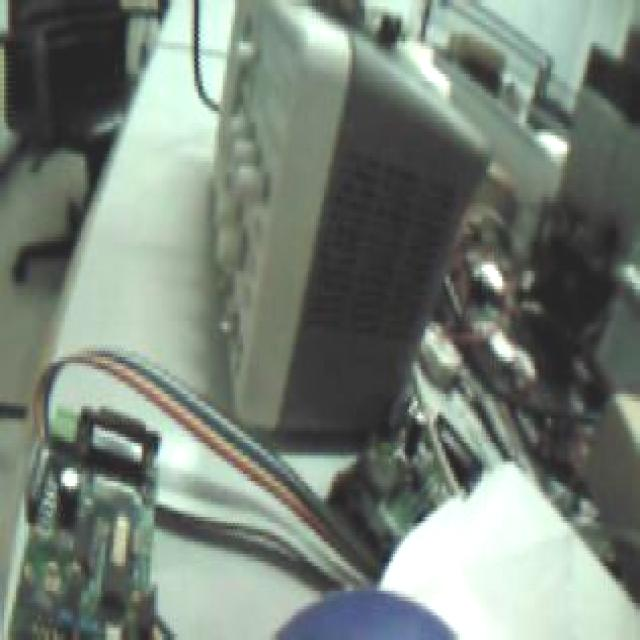BallPurple: (265, 591, 462, 640)
